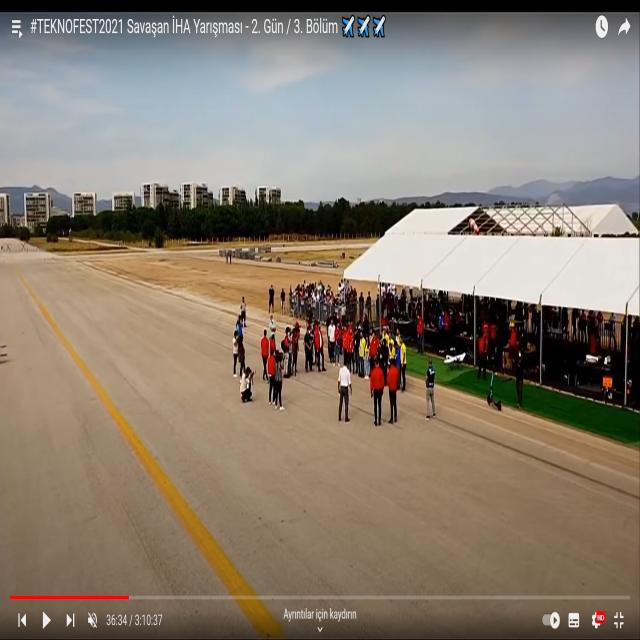iha: (443, 351, 465, 370)
